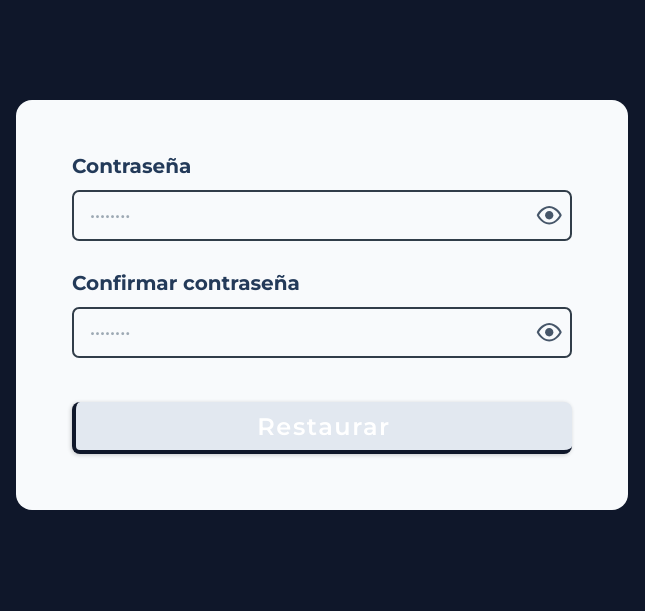
RestorePasswordScreen - Integration Unit Tests › should keep the form active and let useActionState print errors if the domain execution returns failure
Type "12345678" into the password field labelled "Contraseña" at (302, 215), box [74,192,529,239]
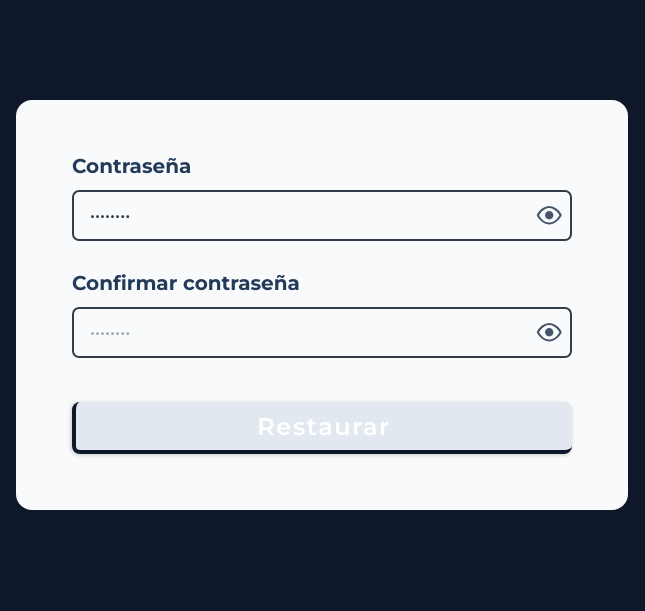
Type "12345678" into the password field labelled "Confirmar contraseña" at (302, 332), box [74,309,529,356]
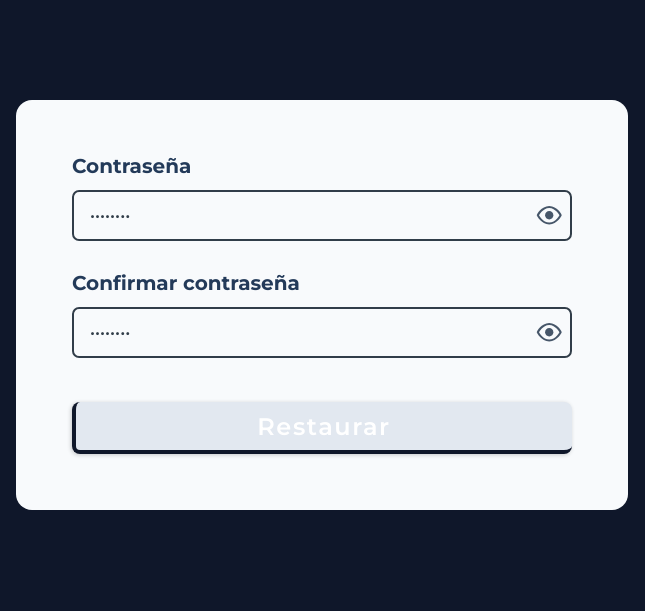
Click the button "Restaurar" at (322, 428), box [72,402,572,454]
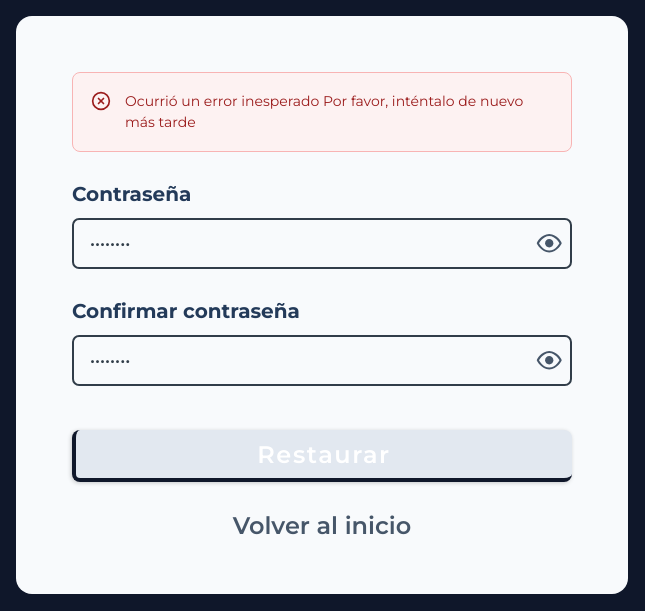
Check: the text "Ocurrió un error inesperado Por favor, inténtalo de nuevo más tarde" is shown, box [125,91,553,133]
